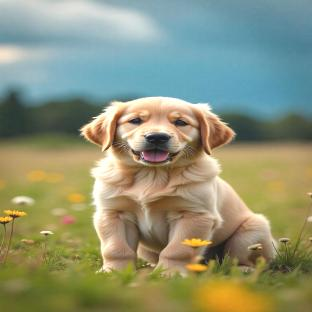Animal: (81, 97, 275, 276)
